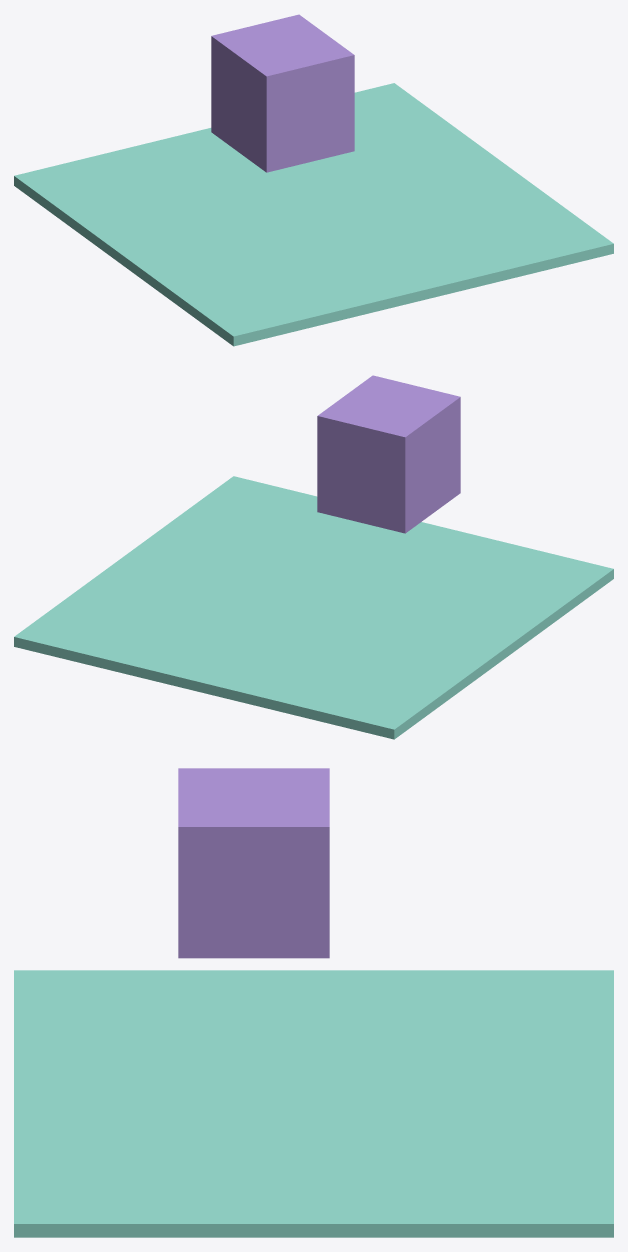
File: sunhelper.dae
3 renders of one model, top to bottom at view 1: azimuth 30°, elevation 25°; view 2: azimuth 150°, elevation 25°; view 3: azimuth 270°, elevation 25°, orthographic. The views are drawn at different scales.
Parts seen in each view (by area): view 1: suntarget, sun; view 2: suntarget, sun; view 3: suntarget, sun.
Boxes of the visible parts, x1,y1,x2,y2 form: suntarget: (14, 83, 613, 346); sun: (211, 14, 354, 172); suntarget: (14, 476, 613, 739); sun: (317, 375, 460, 533); suntarget: (14, 970, 613, 1237); sun: (178, 768, 329, 958).
Bounding box in the file's own units: 40000 × 40000 × 20431.
